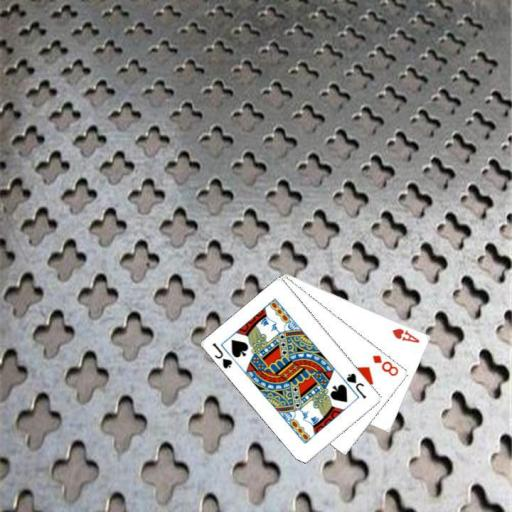8D: (369, 352, 400, 378)
AH: (389, 325, 421, 344)
JS: (209, 339, 234, 371), (344, 370, 368, 400)
